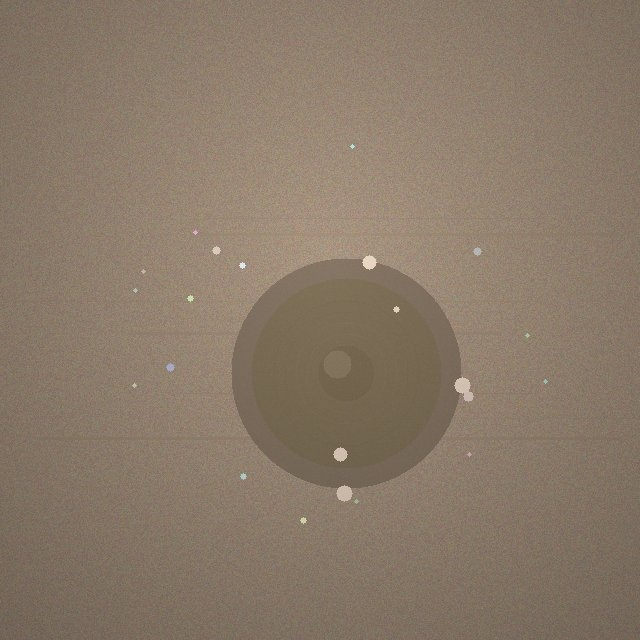overburn: (231, 258, 461, 488)
